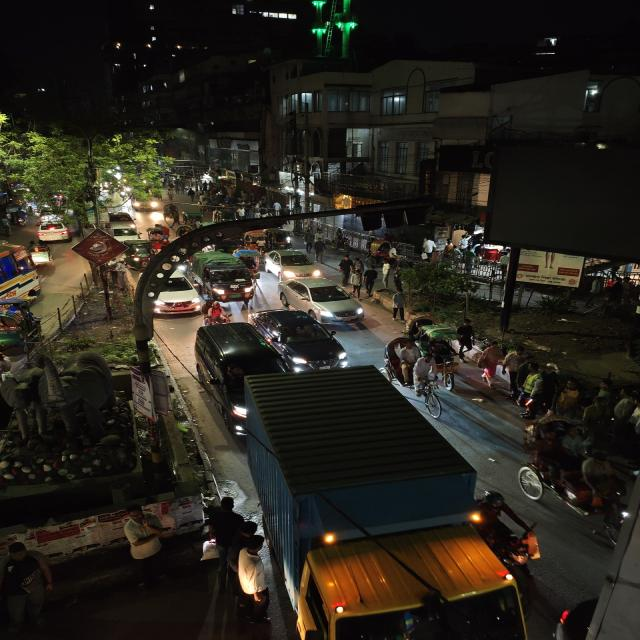car: (264, 308, 344, 372), (192, 319, 272, 380), (278, 276, 367, 322), (142, 272, 202, 320), (262, 247, 322, 279), (35, 218, 73, 244), (102, 210, 140, 233)
cng: (124, 238, 154, 268)
pedestrian: (216, 499, 272, 622), (0, 541, 59, 636), (118, 516, 167, 566), (522, 362, 562, 418), (477, 341, 506, 388), (389, 288, 409, 322), (338, 255, 356, 284), (362, 266, 379, 296), (311, 237, 329, 262)
pickup_van: (200, 254, 262, 303)
rickshaw: (515, 432, 635, 530), (380, 337, 453, 415), (26, 240, 55, 268), (241, 227, 271, 252), (266, 228, 296, 250)
truck: (241, 363, 533, 640)
